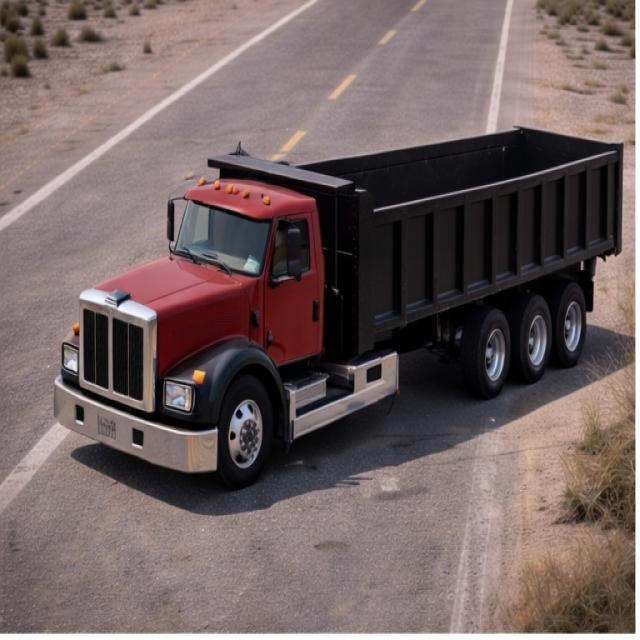Box: (200, 120, 626, 216)
Truck: (50, 96, 638, 484)
